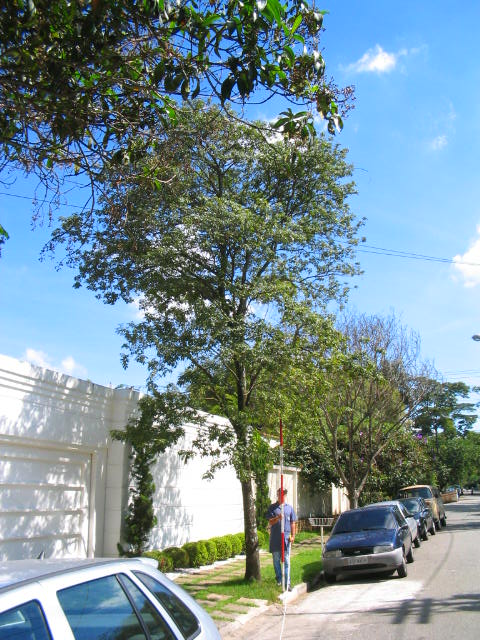crown: (47, 103, 364, 411)
stem: (218, 424, 271, 581)
stick: (270, 418, 289, 591)
tree: (45, 100, 366, 582)
